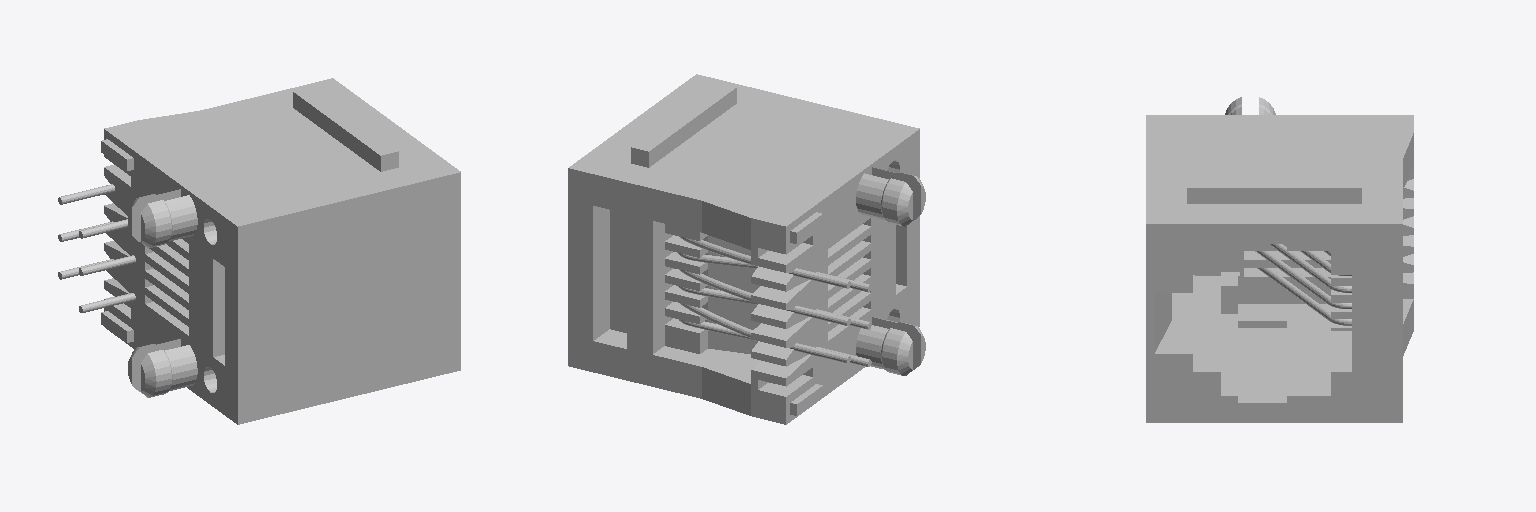
Rendered from RJ11 Vertical.obj.
3 views of the same model, side by side, from view 1: azimuth 30°, elevation 25°; view 2: azimuth 150°, elevation 25°; view 3: azimuth 270°, elevation 25° (orthographic).
Visible parts, largest first — view 1: Solid1:6; view 2: Solid1:6, Solid1:3, Solid1:4, Solid1:5, Solid1:2, Solid1:1, Solid1; view 3: Solid1:6, Solid1:3, Solid1, Solid1:1.
Part boxes in pixels (x1,y1,x2,y2): Solid1:6: (101,78,460,424); Solid1:6: (568,74,925,424); Solid1:3: (680,303,850,363); Solid1:4: (680,270,850,325); Solid1:5: (680,237,850,288); Solid1:2: (678,253,871,292); Solid1:1: (678,286,871,329); Solid1: (678,319,871,366); Solid1:6: (1146,97,1413,422); Solid1:3: (1255,251,1351,308); Solid1: (1257,268,1351,325); Solid1:1: (1269,244,1351,292).
Size of the model in its own units: 19.68 by 15.66 by 16.48.